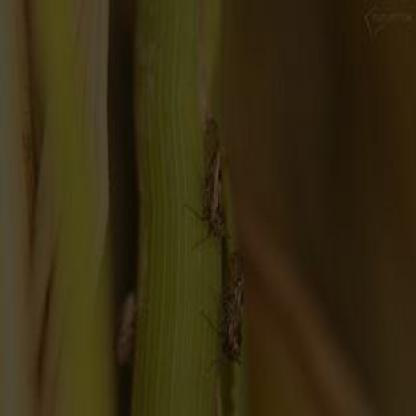brown-planthopper: (202, 118, 229, 240), (222, 254, 244, 364), (116, 288, 140, 366)
